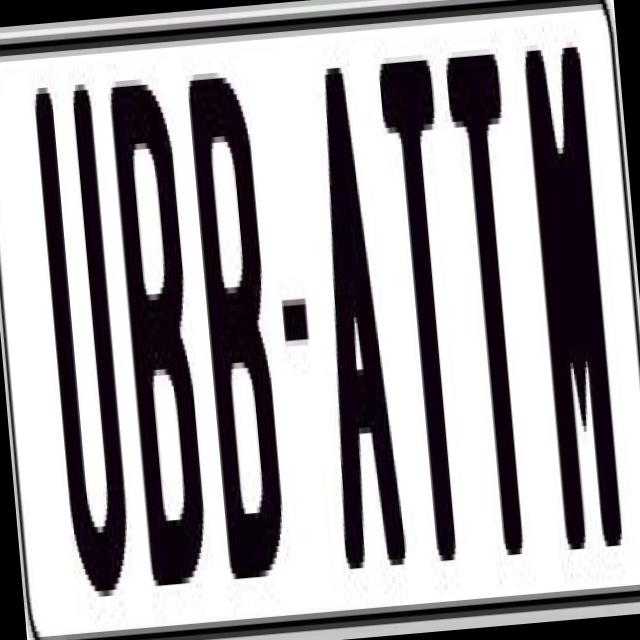A: (302, 64, 416, 604)
B: (182, 57, 292, 597), (108, 71, 212, 604)
M: (518, 34, 626, 544)
T: (376, 47, 480, 551), (444, 47, 544, 551)
U: (31, 82, 142, 628)
